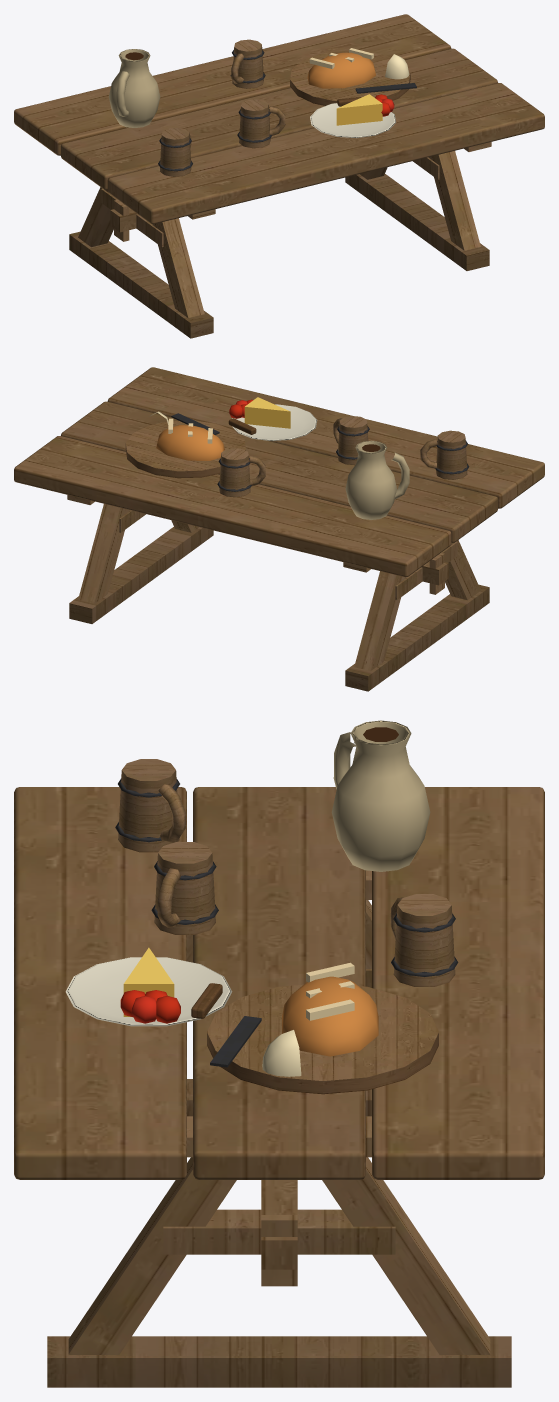
The model's file is prop_tableWood.glb.
3 renders of one model, top to bottom at view 1: azimuth 30°, elevation 25°; view 2: azimuth 150°, elevation 25°; view 3: azimuth 270°, elevation 25°, orthographic. The views are drawn at different scales.
Parts seen in each view (by area): view 1: prop; view 2: prop; view 3: prop.
Part boxes in pixels (x1=…): prop: x1=14, y1=14, x2=544, y2=338; prop: x1=14, y1=367, x2=544, y2=691; prop: x1=14, y1=720, x2=544, y2=1387.
Bounding box in the file's own units: 1.2 × 0.615 × 0.732.
Materials: 5 (2 with a texture image).
